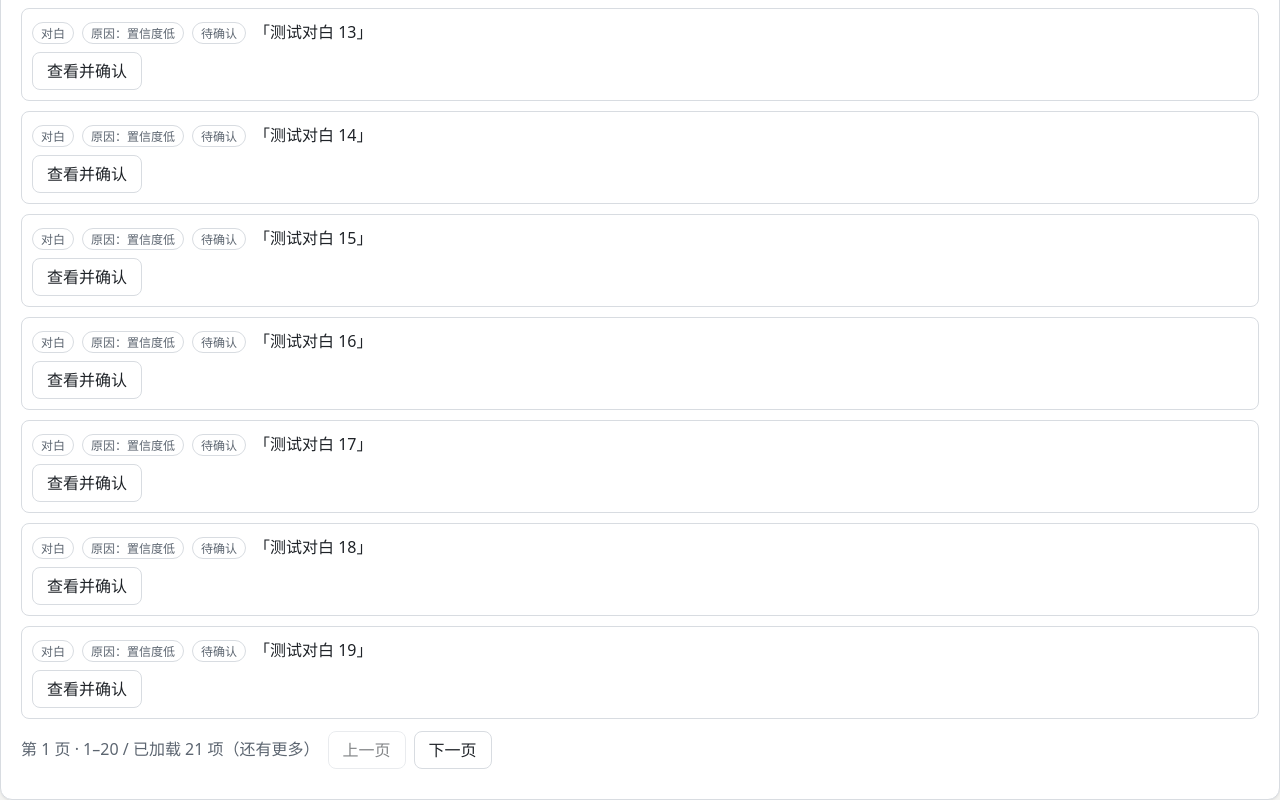
Test: ReviewPage › 待确认跨页去重并按需读取后续批次
(page scrolled)
Expected: the text "「测试对白 20」" is not shown
Click the button "下一页". click: (453, 750)
box: [414,731,492,769]
(page scrolled)
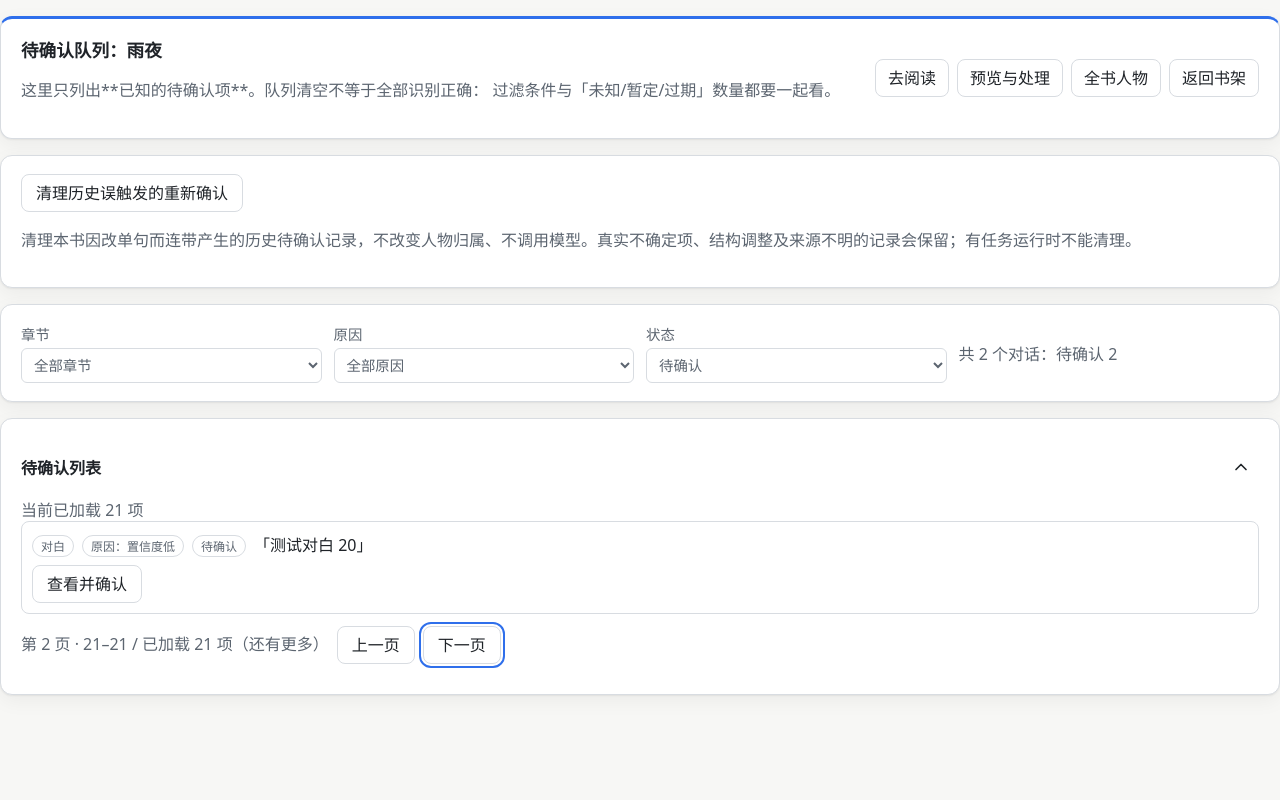
Click the button "下一页". click: (462, 645)
box: [423,626,501,664]
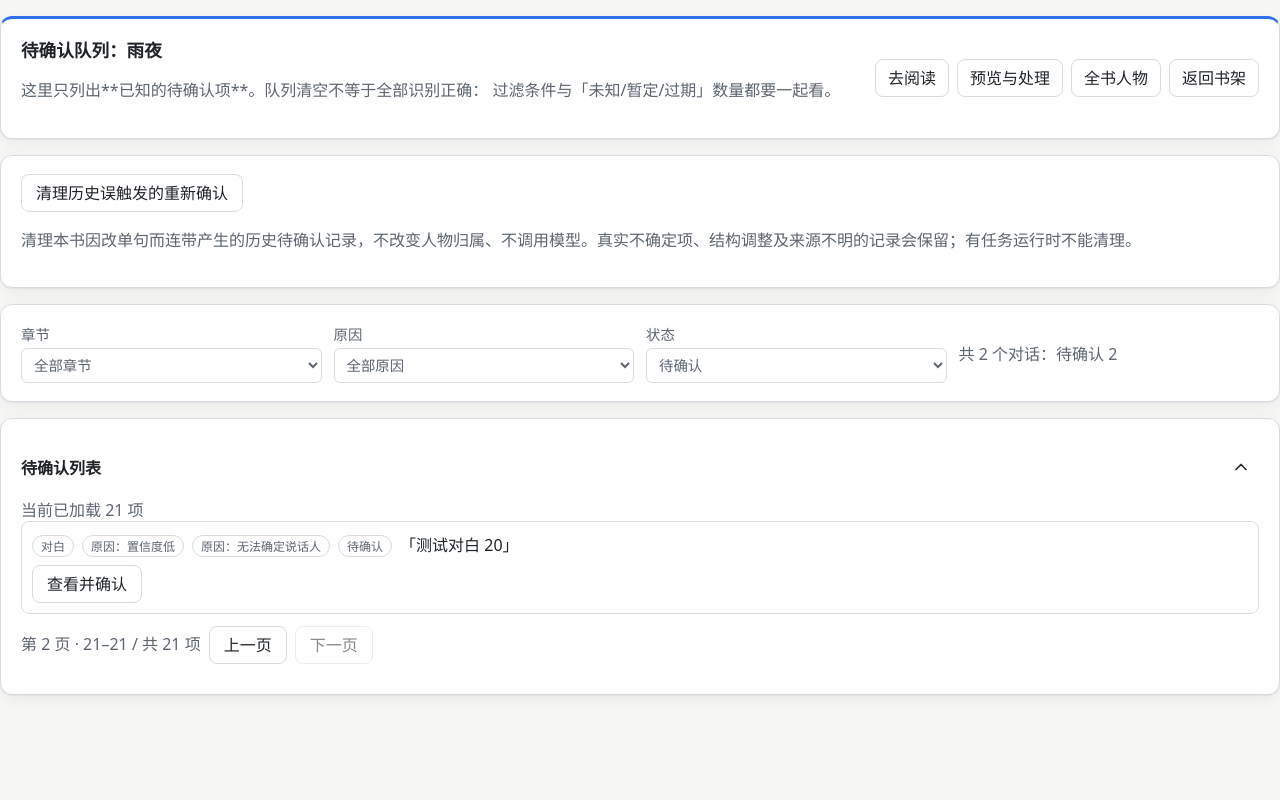
Expected: the text "「测试对白 20」" is shown once, [400,534,519,556]
Expected: the text "原因：无法确定说话人" is shown, [192,535,330,557]
